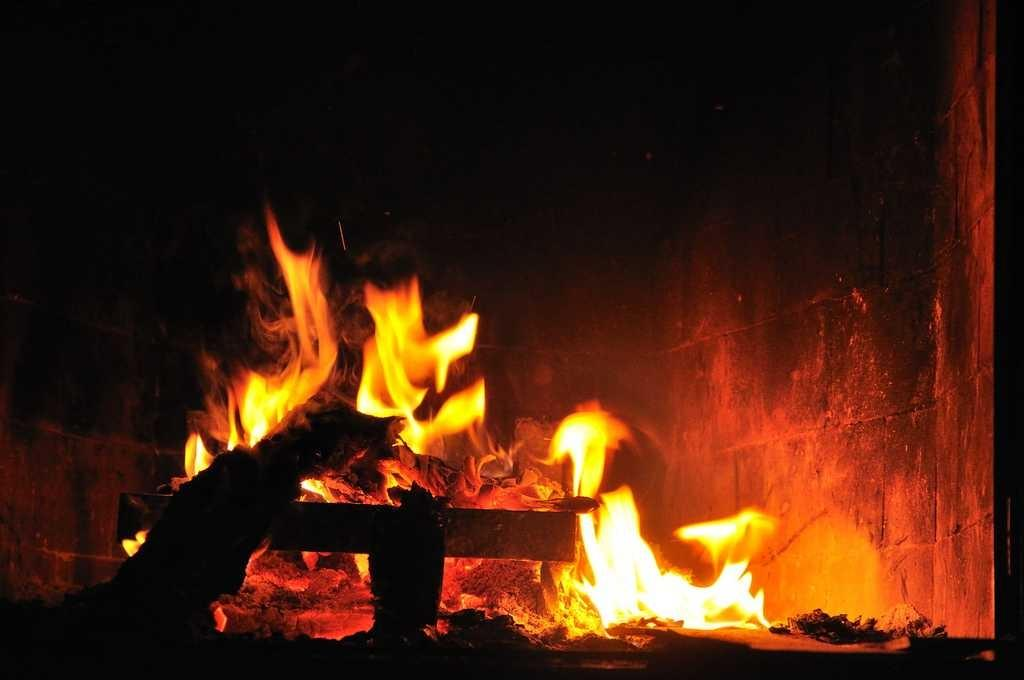fire: (583, 483, 757, 632), (362, 292, 462, 400), (538, 417, 617, 480), (242, 373, 285, 408)
